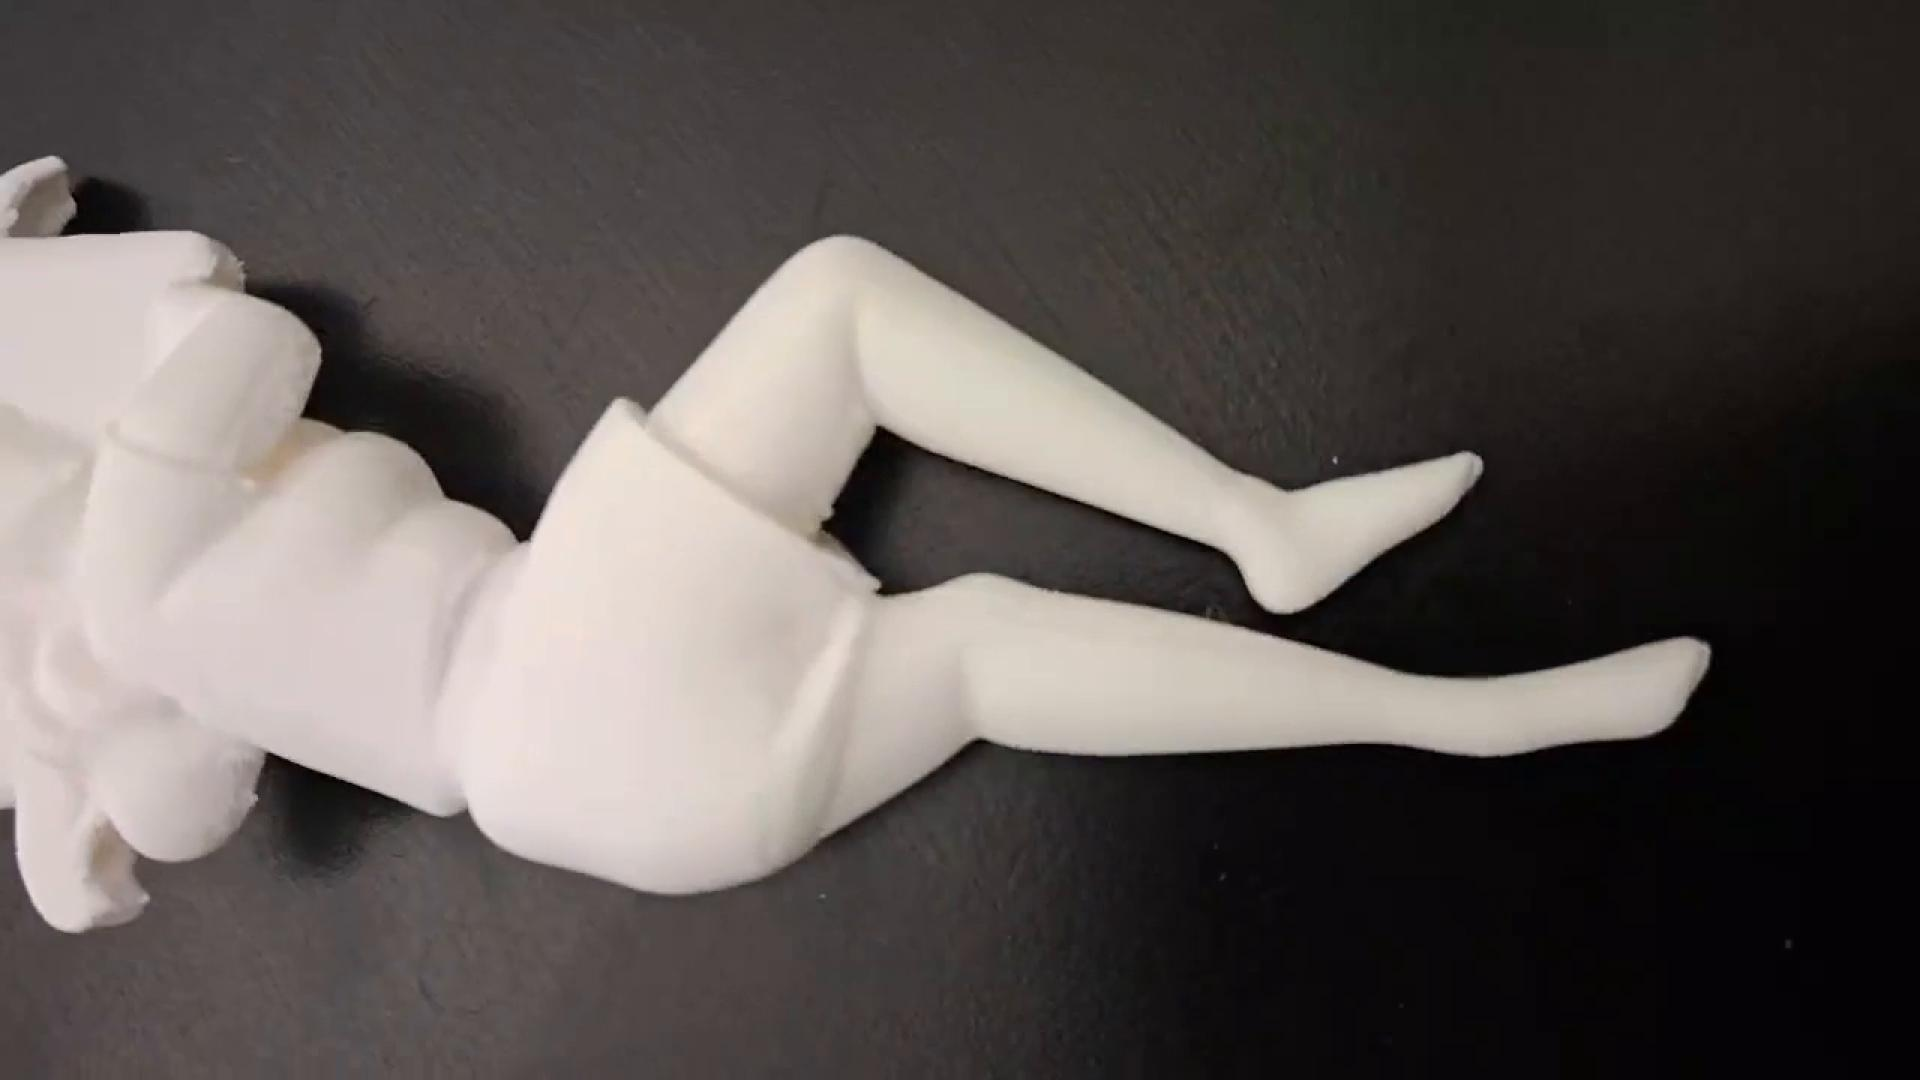Good-style: (0, 138, 1714, 943)
